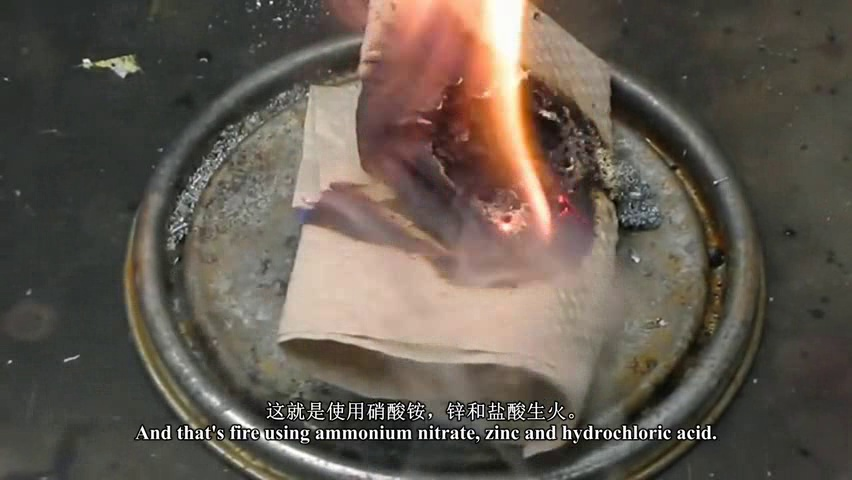fire: (401, 1, 564, 252)
